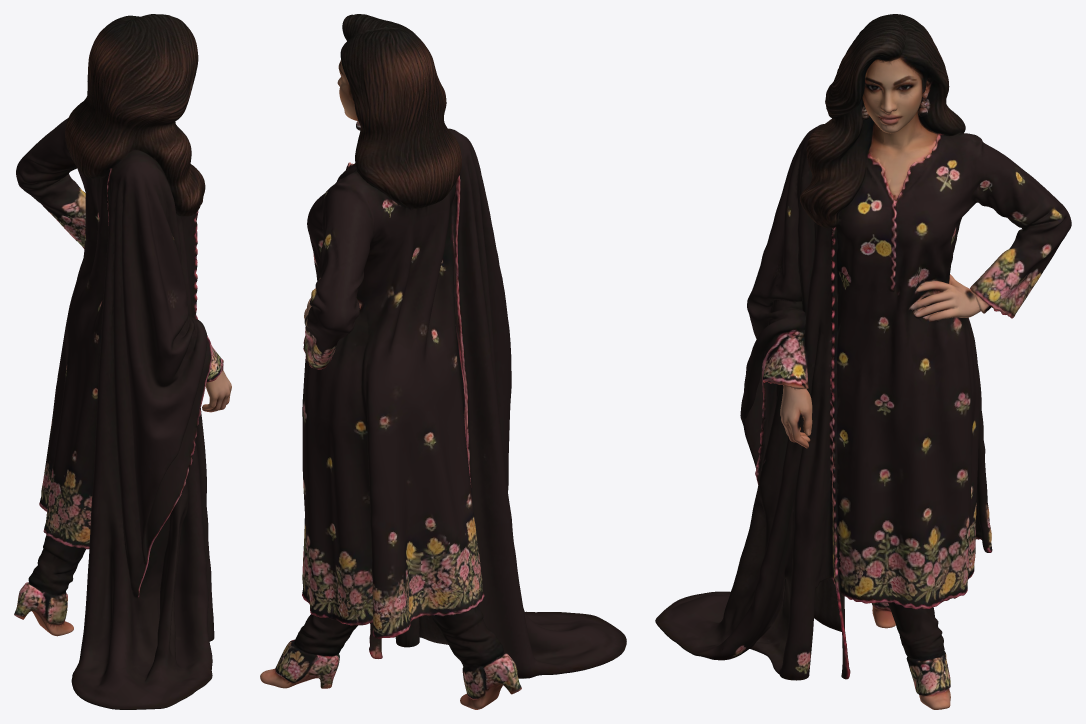
3 views of the same model, side by side, from view 1: azimuth 30°, elevation 25°; view 2: azimuth 150°, elevation 25°; view 3: azimuth 270°, elevation 25° (orthographic). The views are drawn at different scales.
Parts seen in each view (by area): view 1: Object_01; view 2: Object_01; view 3: Object_01.
Part boxes in pixels (x1=…): Object_01: x1=14, y1=14, x2=231, y2=709; Object_01: x1=260, y1=14, x2=626, y2=709; Object_01: x1=655, y1=14, x2=1071, y2=709.
Bounding box in the file's own units: 0.3911 × 0.9999 × 0.5845.
Materials: 1 (1 with a texture image).
